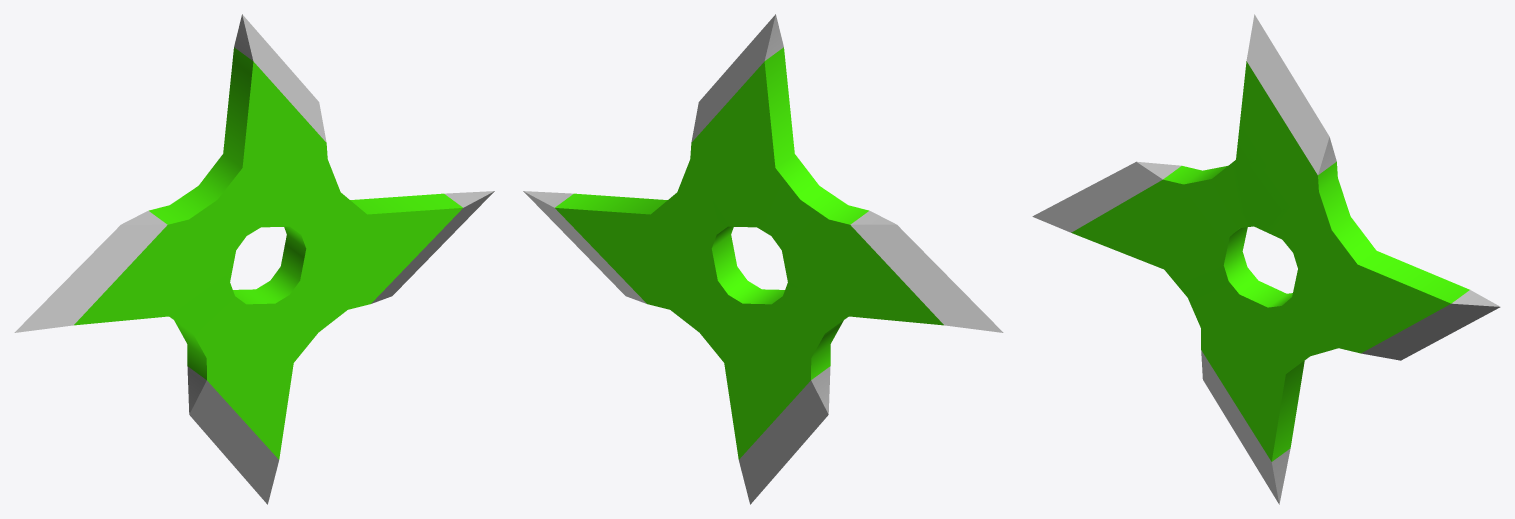
File: M_NinjaStar.FBX
The picture shows the model from 3 angles, left to right: view 1: azimuth 30°, elevation 25°; view 2: azimuth 150°, elevation 25°; view 3: azimuth 330°, elevation 25°; orthographic projection. The views are drawn at different scales.
Visible parts, largest first — view 1: M_NinjaStar; view 2: M_NinjaStar; view 3: M_NinjaStar.
Boxes of the visible parts, box(x1,y1,x2,y2) form: M_NinjaStar: box(14, 14, 494, 504); M_NinjaStar: box(523, 14, 1003, 504); M_NinjaStar: box(1032, 14, 1500, 504).
Bounding box in the file's own units: 20.55 × 20.3 × 1.45.
